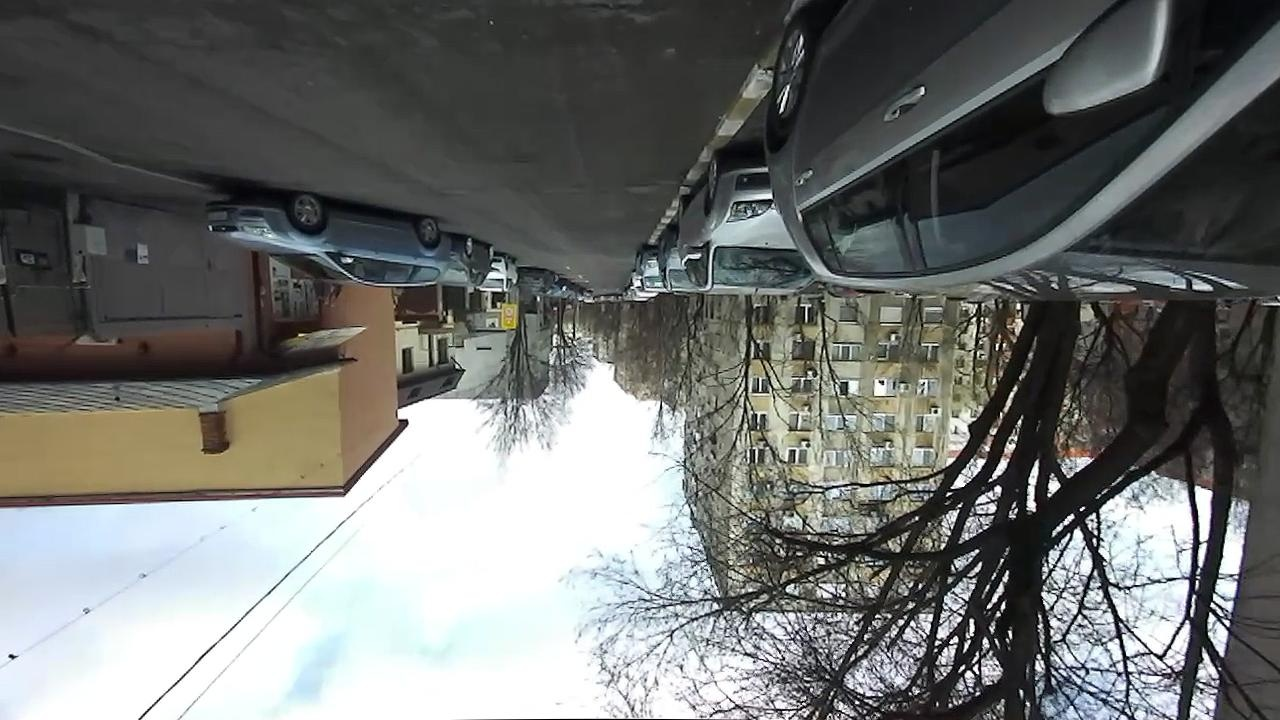pothole: (552, 0, 665, 26)
